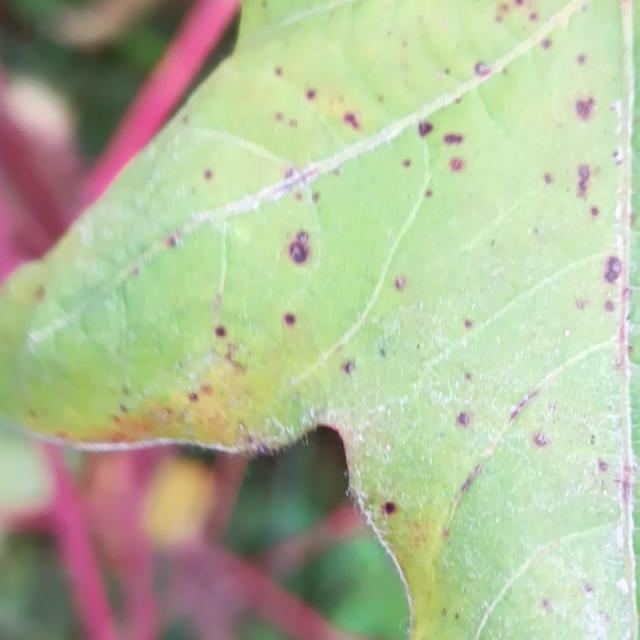Bacterial_Blight: (197, 287, 271, 409), (277, 229, 321, 274), (492, 1, 545, 35), (602, 254, 623, 285), (576, 163, 592, 197), (273, 110, 298, 130), (574, 97, 595, 120), (494, 2, 513, 22), (343, 111, 361, 130), (448, 156, 465, 173), (532, 431, 550, 447), (456, 411, 472, 427), (474, 61, 491, 76), (418, 121, 434, 136), (444, 133, 463, 145), (382, 500, 396, 515), (342, 360, 355, 375), (283, 312, 296, 326), (166, 234, 179, 248), (613, 150, 624, 166), (394, 276, 406, 290), (34, 285, 45, 300), (215, 324, 227, 337), (598, 458, 609, 472), (203, 169, 214, 181), (305, 89, 317, 100), (575, 298, 586, 310), (576, 54, 587, 65), (542, 600, 552, 612), (543, 173, 553, 185), (464, 319, 474, 329), (590, 207, 599, 218), (274, 66, 283, 77), (464, 371, 473, 382), (424, 189, 433, 199), (402, 158, 411, 168), (312, 191, 320, 202)
Cotton: (0, 0, 638, 639)
